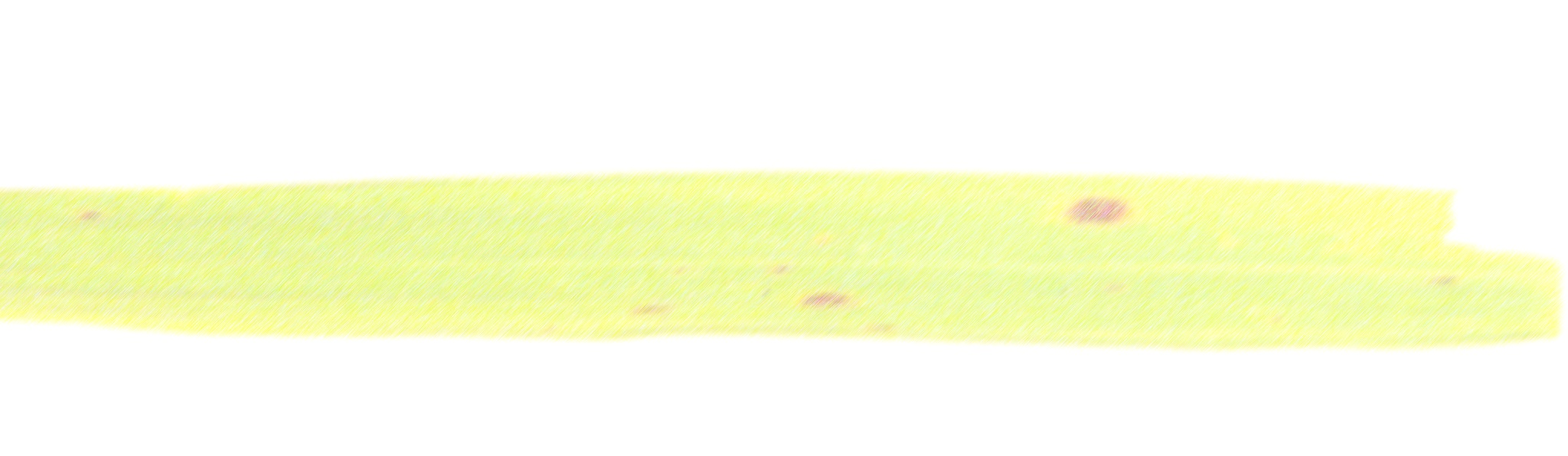Bacterial_Leaf_Blight: (1029, 176, 1156, 239), (773, 271, 881, 323), (1407, 254, 1478, 311), (615, 291, 682, 326), (62, 195, 120, 232)
